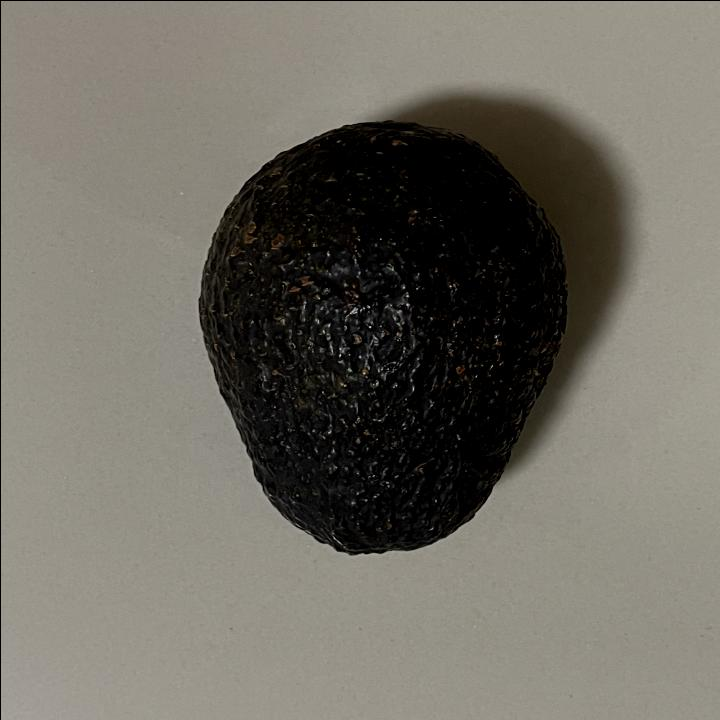Level2: (189, 115, 577, 563)
